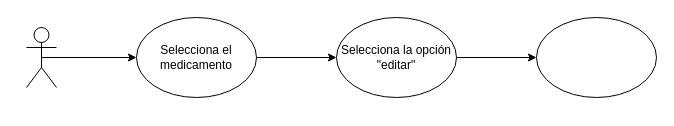
Image size: 674x126. Some labels were removed from this diagram. Here are the shapes that lost their labels. From the top down, the centre of each, then its label:
At (41,57): "Cuidador".
At (596,57): "Edita los datos ingresados del medicamento".
